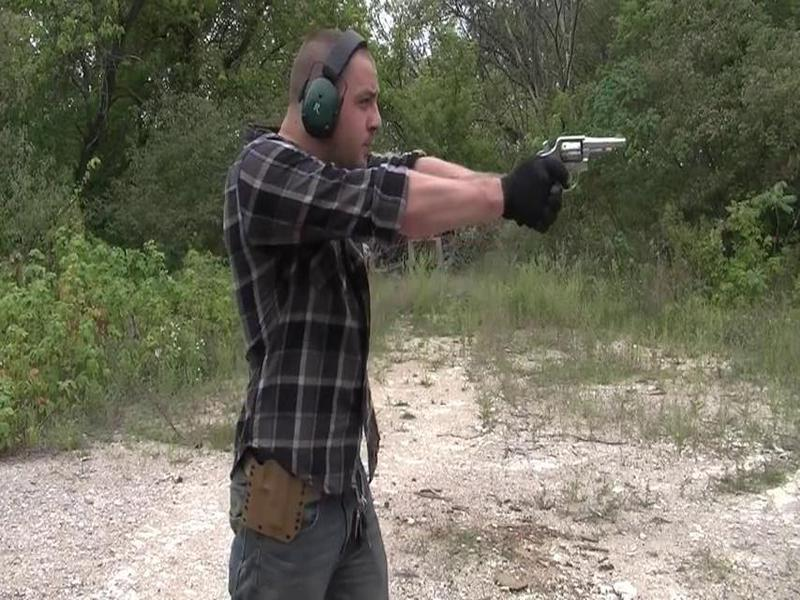Revolver: (527, 134, 631, 193)
